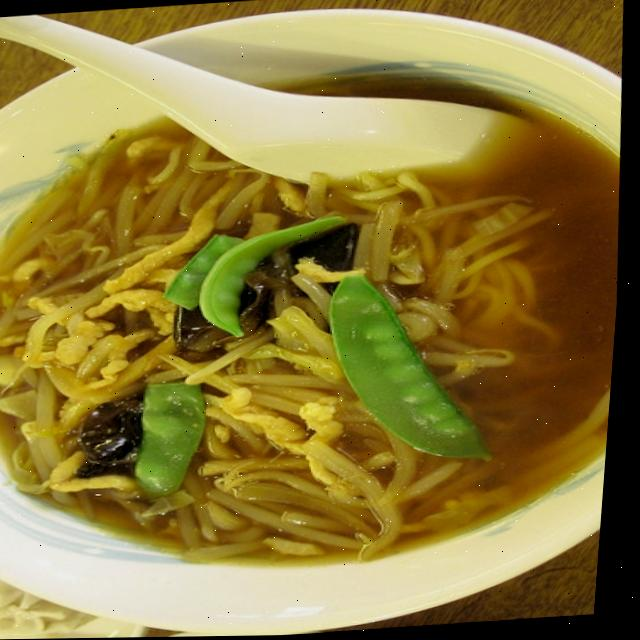面条主食: (0, 23, 638, 608)
